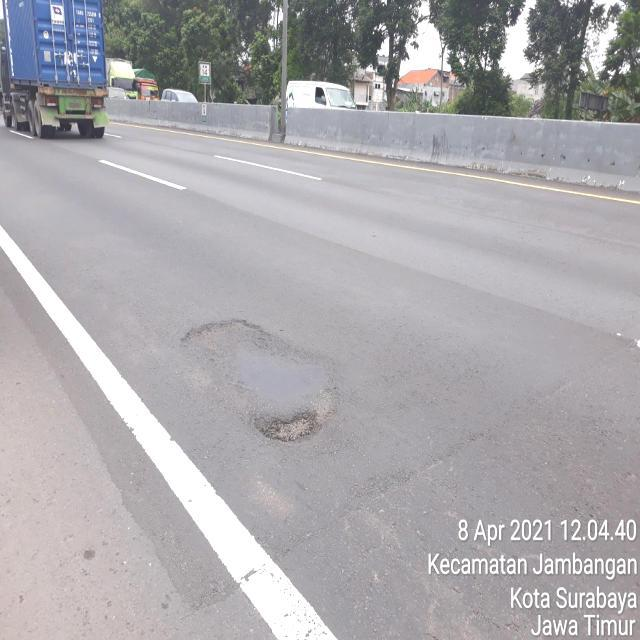Buraco: (178, 317, 275, 354), (251, 407, 339, 445)
